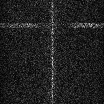wifi: (1, 23, 104, 28)
